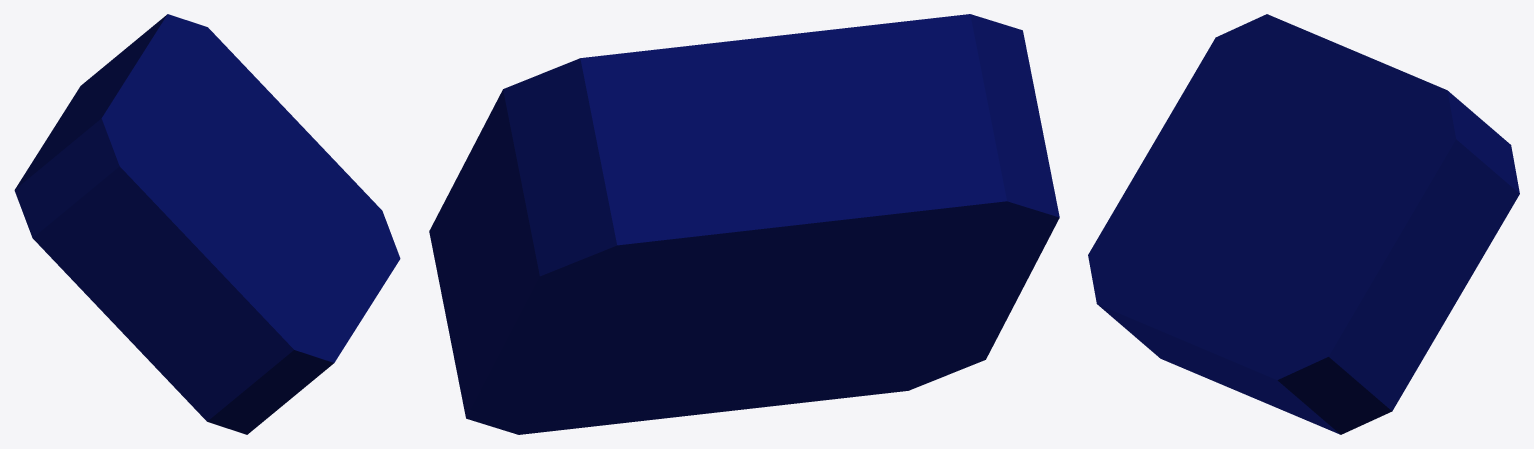
File: unlimitedclip.fbx
3 views of the same model, side by side, from view 1: azimuth 30°, elevation 25°; view 2: azimuth 150°, elevation 25°; view 3: azimuth 270°, elevation 25° (orthographic). The views are drawn at different scales.
Parts seen in each view (by area): view 1: Plane; view 2: Plane; view 3: Plane.
Part boxes in pixels (x1,y1,x2,y2): Plane: (14, 14, 400, 434); Plane: (429, 14, 1059, 434); Plane: (1088, 14, 1519, 434).
Size of the model in its own units: 254 by 194 by 254.
